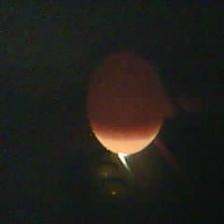fertile: (81, 44, 169, 162)
